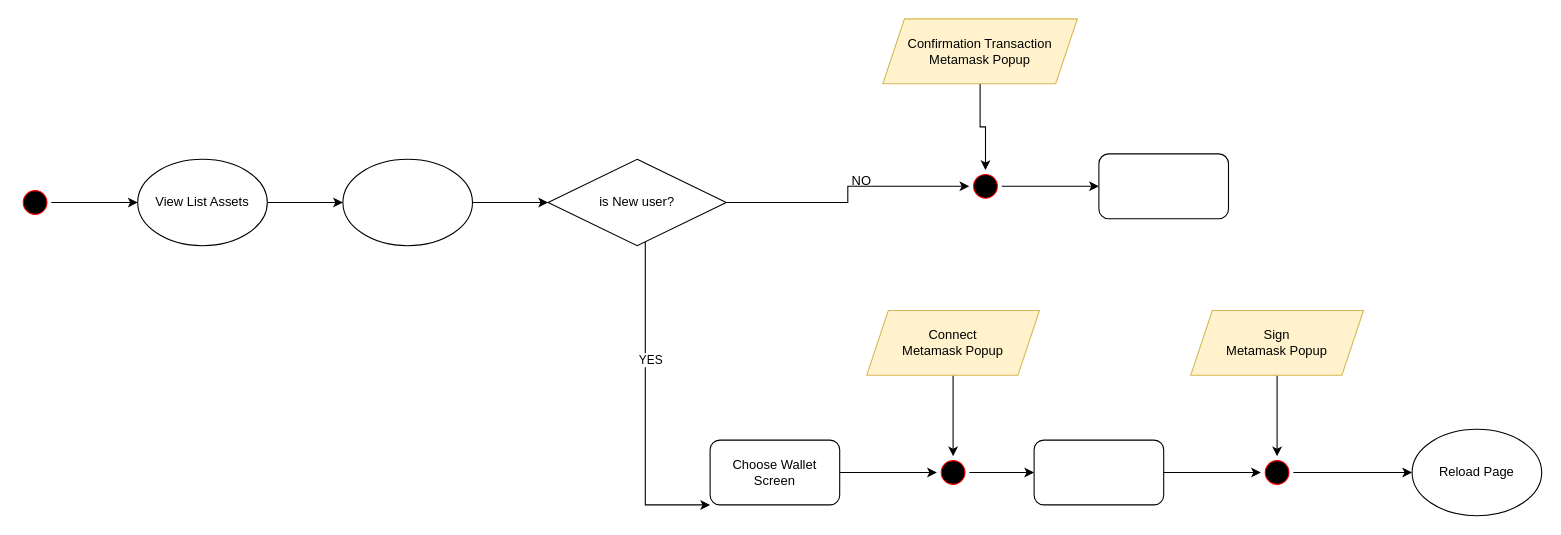
The diagram is 1561 pixels wide and 535 high, and some of its shapes have lost their labels. The centre of each missing label's shape, as x and y in pixels:
"Click Button Receive NFT" belongs at [407,202].
"Receive Success Screen" belongs at [1163,186].
"Sign Wallet Screen" belongs at [1098,472].
